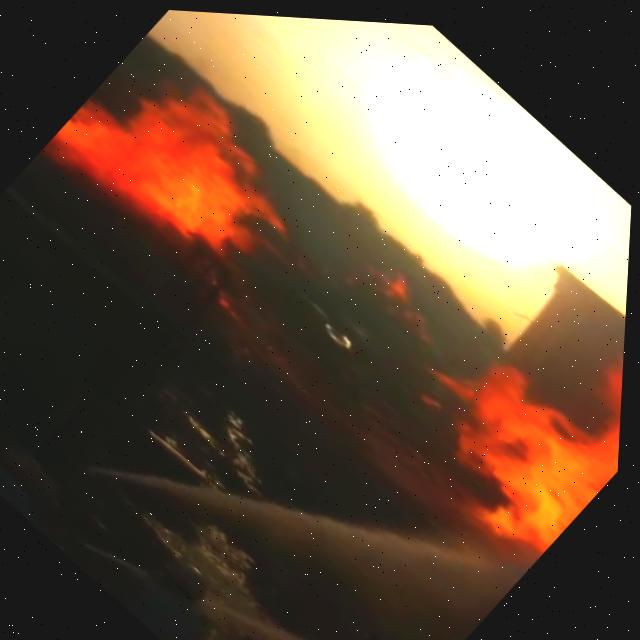Fire: (388, 173, 634, 567), (35, 27, 330, 313)
